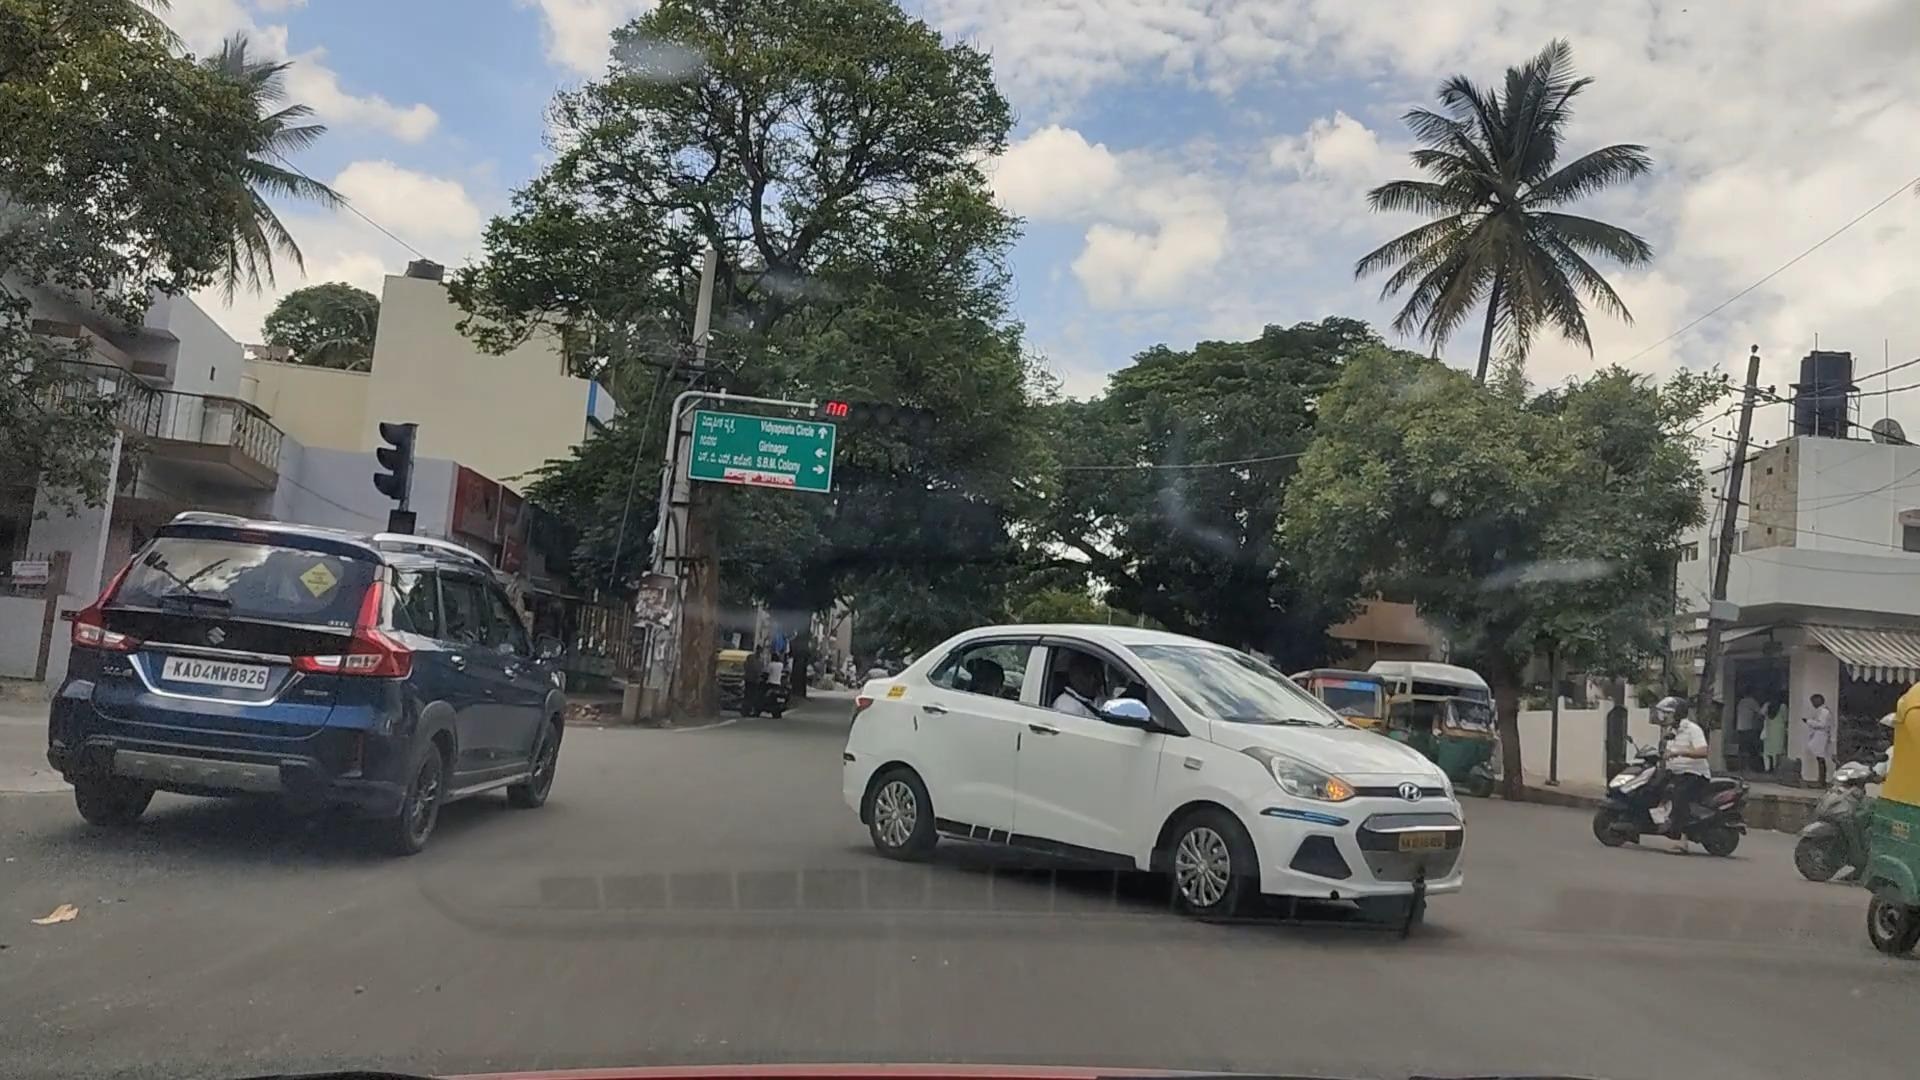LMV: (853, 621, 1464, 975), (95, 505, 567, 858)
